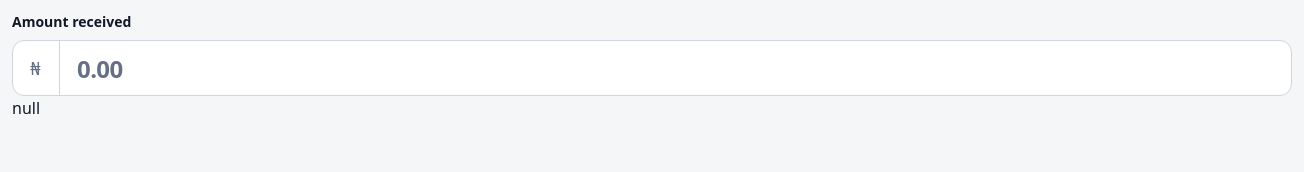
Scenario: MoneyInput › shows an inline error for -50 and keeps the text as typed
Type "-50" into the field labelled "Amount received" at [652, 68], box x1=12 y1=40 x2=1292 y2=96
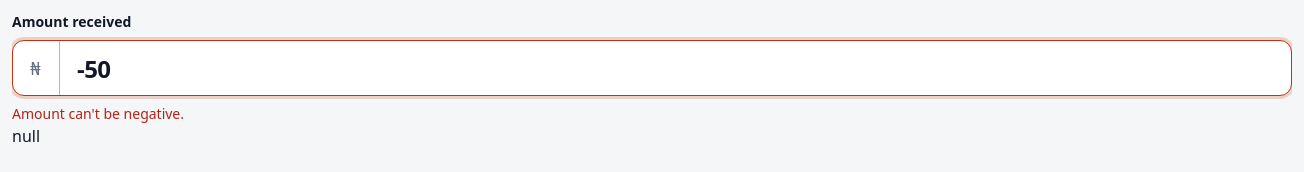
Check: the text with test id "kobo" reads "null", box x1=12 y1=125 x2=40 y2=147
Check: the message reads "Amount can't be negative.", box x1=12 y1=104 x2=184 y2=123
